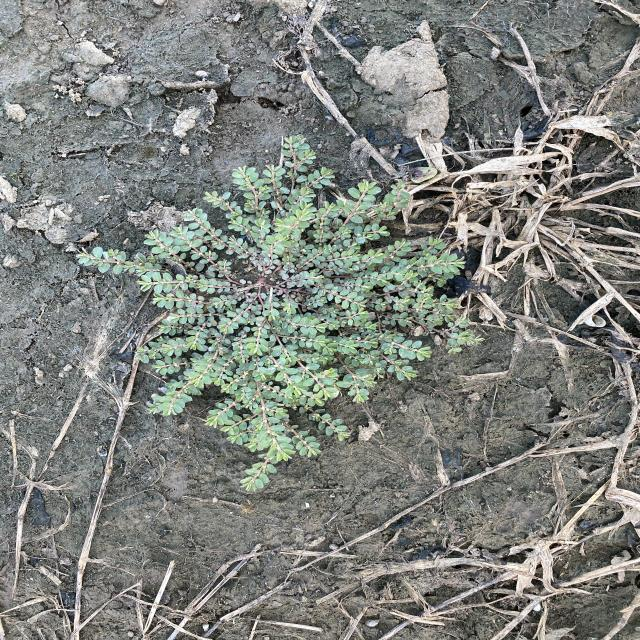SpottedSpurge: (73, 133, 486, 495)
